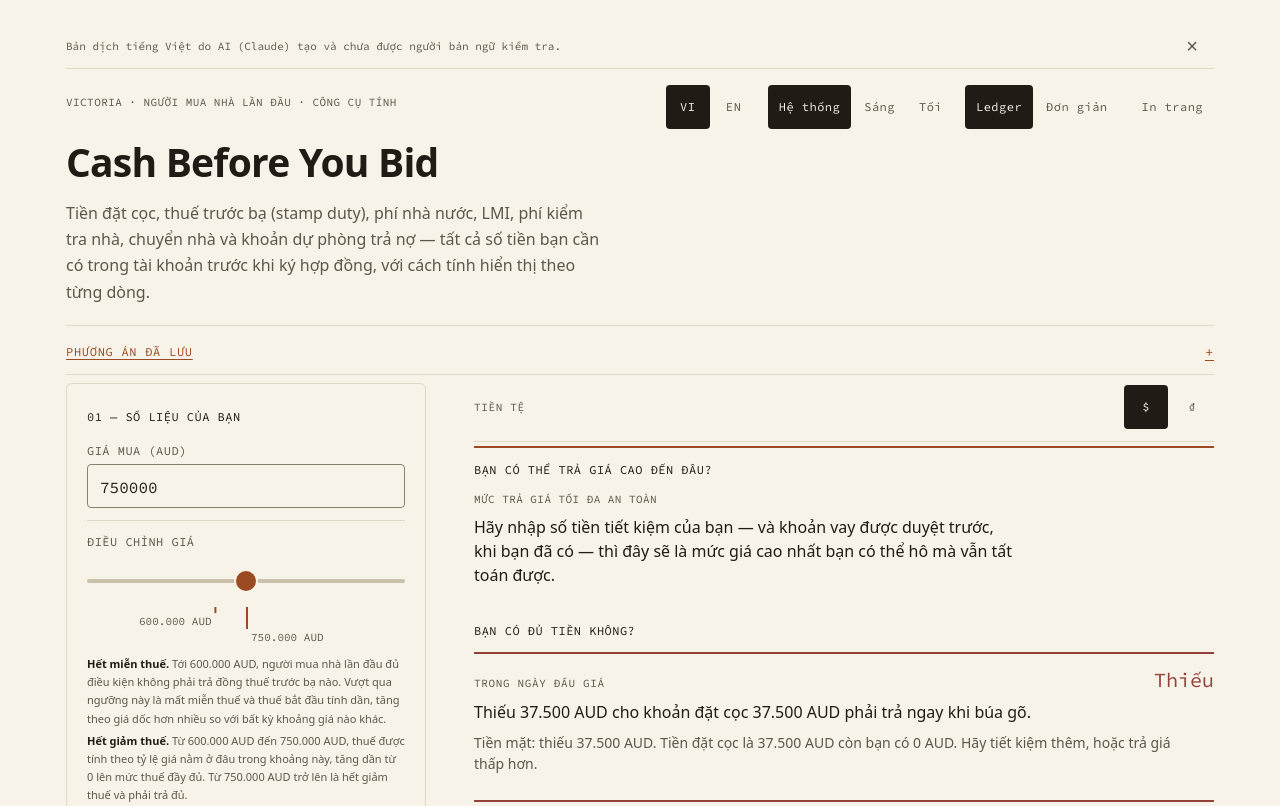
it: the exchange rate › shows the live rate and where it came from
This screenshot has width=1280, height=806.
Expected: the field labelled "Giá mua (AUD)" is shown, [87,464,405,508]
Click the button named "Đồng Việt Nam": click(1192, 407) [1170,385,1214,429]
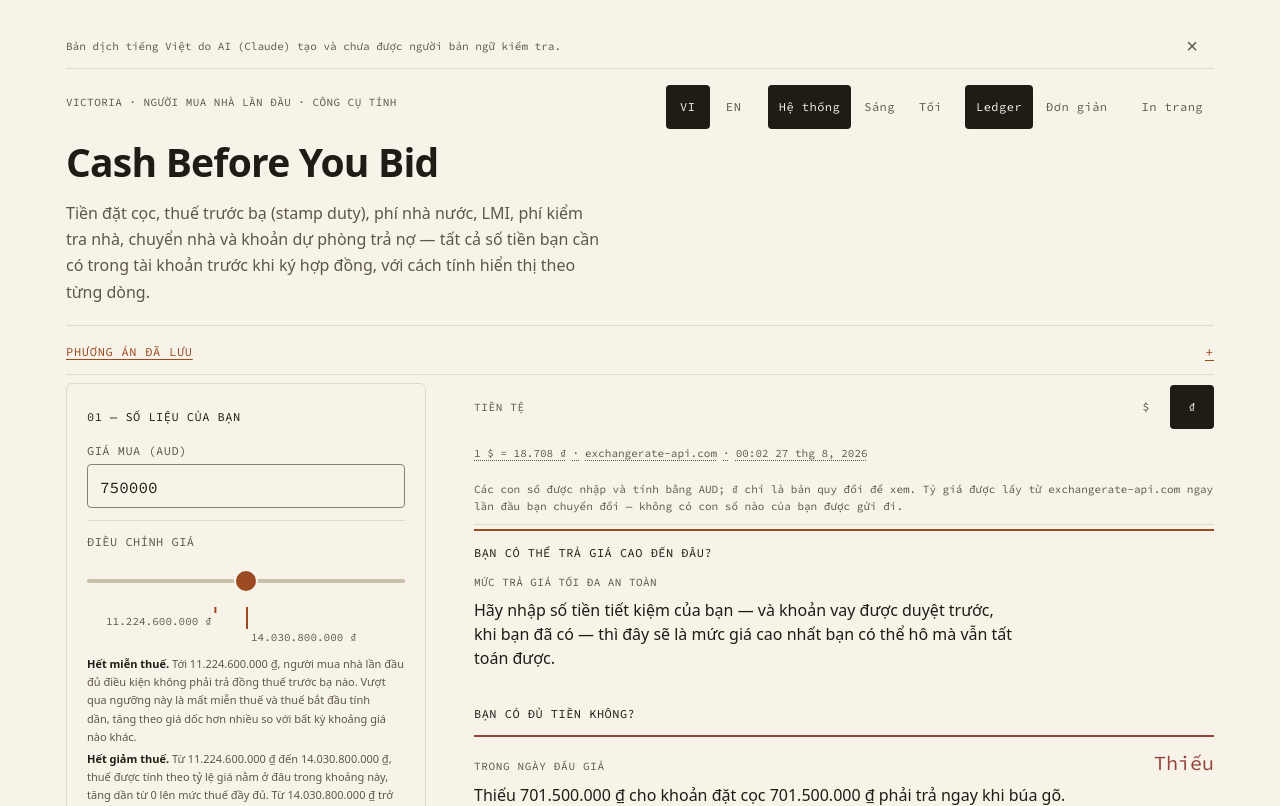
Expected: the button with class "ratebtn" shows "exchangerate-api.com", [474,431,868,475]
Expected: the button with class "ratebtn" shows "18.708", [474,431,868,475]
